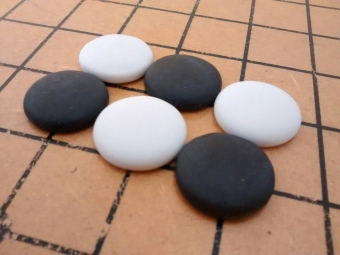black: (174, 131, 277, 220), (25, 71, 109, 134), (144, 53, 223, 113)
crossing: (305, 63, 329, 86), (47, 20, 71, 38), (243, 17, 261, 35), (183, 9, 203, 24)
white: (92, 95, 188, 174), (213, 79, 303, 150), (77, 33, 155, 84)
